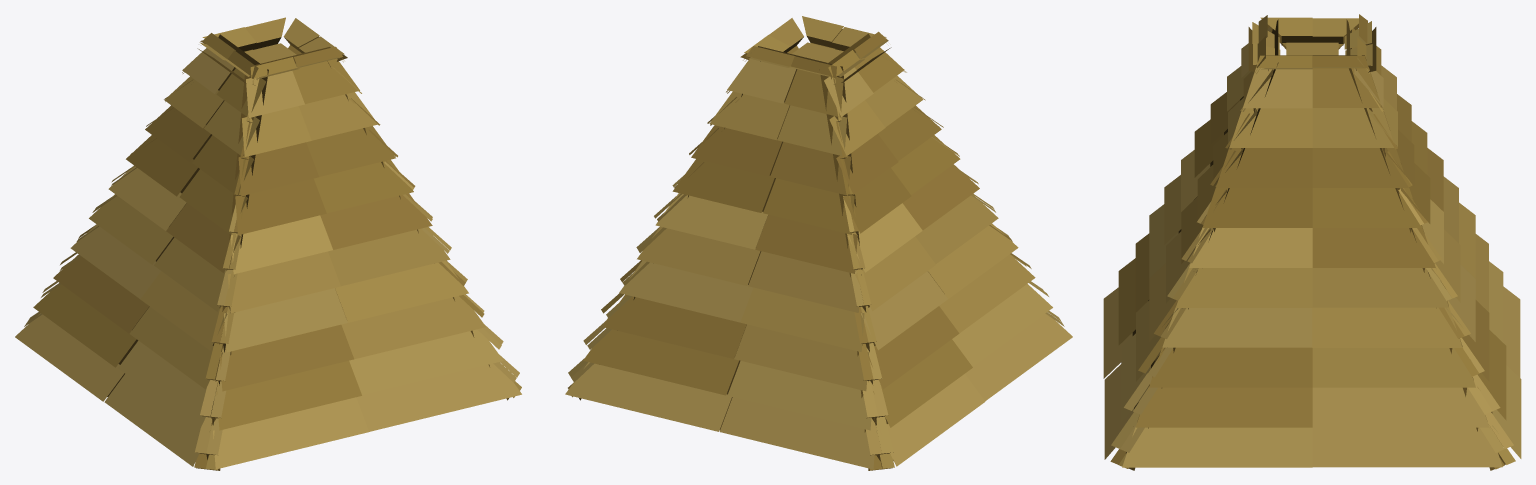
File: roof-high-point-thatch.glb
The picture shows the model from 3 angles, left to right: view 1: azimuth 30°, elevation 25°; view 2: azimuth 150°, elevation 25°; view 3: azimuth 270°, elevation 25°; orthographic projection. The views are drawn at different scales.
Visible parts, largest first — view 1: roof-high-point-thatch; view 2: roof-high-point-thatch; view 3: roof-high-point-thatch.
Part boxes in pixels (x1,y1,x2,y2): roof-high-point-thatch: (15, 17, 521, 470); roof-high-point-thatch: (565, 16, 1072, 470); roof-high-point-thatch: (1103, 14, 1521, 470).
Size of the model in its own units: 1.1 by 1.02 by 1.1.
